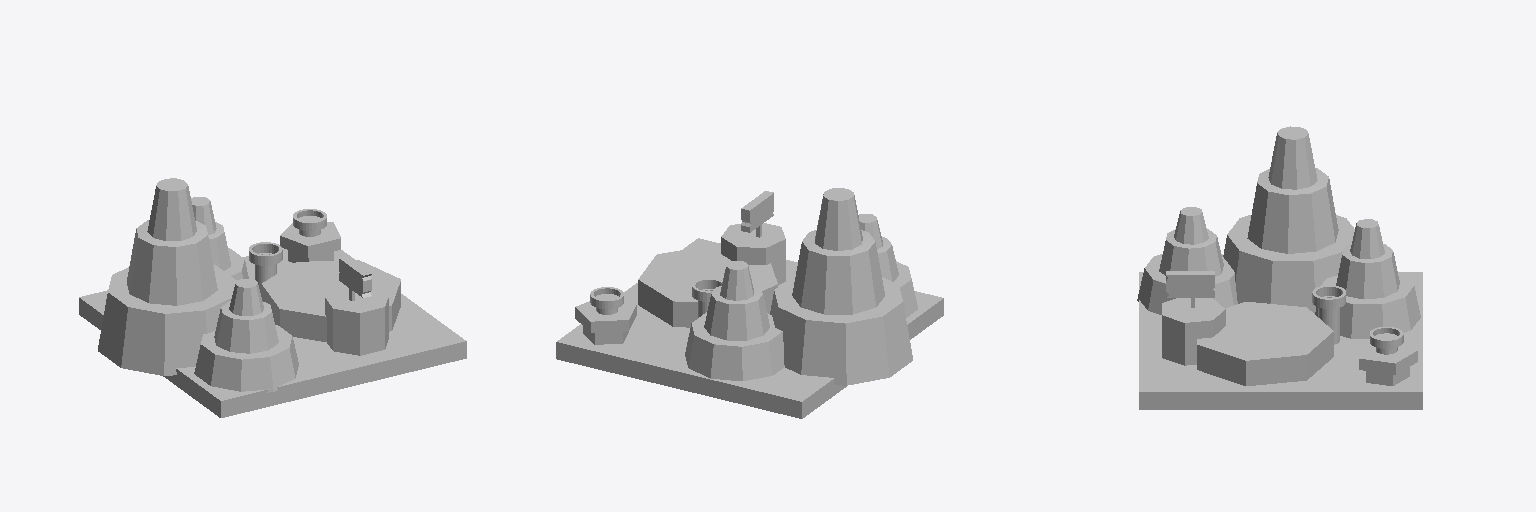
The model's file is entornoRocoso.obj.
3 renders of one model, left to right at view 1: azimuth 30°, elevation 25°; view 2: azimuth 150°, elevation 25°; view 3: azimuth 270°, elevation 25°, orthographic.
Parts seen in each view (by area): view 1: Cylinder, Base, Cylinder.001, Cylinder.004, Cylinder.003, Cylinder.012, Cylinder.005, Cylinder.013, Cylinder.002, Cylinder.007, Letrero, Cylinder.006 (+1 smaller); view 2: Cylinder, Base, Cylinder.002, Cylinder.004, Cylinder.012, Cylinder.003, Cylinder.005, Cylinder.011, Cylinder.001, Letrero, Cylinder.006, Cylinder.007; view 3: Base, Cylinder, Cylinder.004, Cylinder.002, Cylinder.001, Cylinder.003, Cylinder.012, Cylinder.005, Letrero, Cylinder.011, Cylinder.007, Cylinder.013 (+1 smaller).
Boxes of the visible parts, <box> form: Cylinder: <box>98,186,231,375</box>; Base: <box>79,248,466,417</box>; Cylinder.001: <box>194,284,298,392</box>; Cylinder.004: <box>261,260,400,341</box>; Cylinder.003: <box>325,287,388,355</box>; Cylinder.012: <box>108,178,236,313</box>; Cylinder.005: <box>280,222,340,262</box>; Cylinder.013: <box>201,278,291,359</box>; Cylinder.002: <box>192,201,248,279</box>; Cylinder.007: <box>249,242,282,292</box>; Letrero: <box>339,256,371,300</box>; Cylinder.006: <box>293,209,326,236</box>; Cylinder: <box>770,194,912,385</box>; Base: <box>556,238,943,418</box>; Cylinder.002: <box>685,266,784,380</box>; Cylinder.004: <box>638,245,777,327</box>; Cylinder.012: <box>774,188,902,323</box>; Cylinder.003: <box>721,223,785,284</box>; Cylinder.005: <box>575,301,636,344</box>; Cylinder.011: <box>692,261,782,346</box>; Cylinder.001: <box>860,220,917,317</box>; Letrero: <box>741,191,773,237</box>; Cylinder.006: <box>590,287,623,314</box>; Cylinder.007: <box>692,278,722,317</box>; Base: <box>1139,272,1422,409</box>; Cylinder: <box>1223,133,1342,313</box>; Cylinder.004: <box>1197,302,1333,385</box>; Cylinder.002: <box>1315,223,1420,338</box>; Cylinder.001: <box>1137,211,1237,314</box>; Cylinder.003: <box>1162,298,1225,365</box>; Cylinder.012: <box>1227,126,1354,260</box>; Cylinder.005: <box>1359,341,1417,385</box>; Letrero: <box>1166,271,1214,307</box>; Cylinder.011: <box>1321,219,1413,303</box>; Cylinder.007: <box>1312,285,1345,344</box>; Cylinder.013: <box>1145,207,1234,283</box>.
Size of the model in its own units: 13.02 by 7.56 by 11.5.